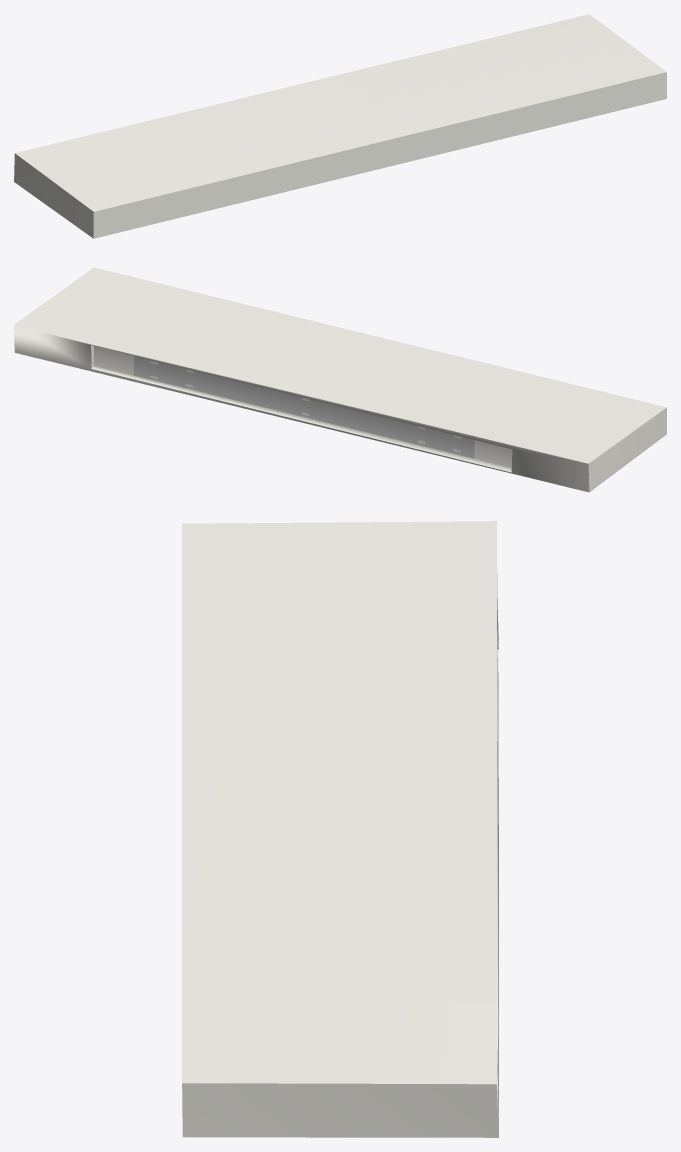
3 views of the same model, one above another, from view 1: azimuth 30°, elevation 25°; view 2: azimuth 150°, elevation 25°; view 3: azimuth 270°, elevation 25° (orthographic). The views are drawn at different scales.
Parts seen in each view (by area): view 1: lack-110.001; view 2: lack-110.001; view 3: lack-110.001.
Part boxes in pixels (x1,y1,x2,y2): lack-110.001: (14, 14, 666, 238); lack-110.001: (14, 267, 666, 492); lack-110.001: (182, 521, 498, 1137).
Size of the model in its own units: 1.1 by 0.0522 by 0.2629.
1 material, 1 textured.
